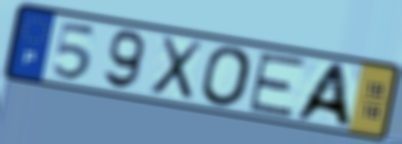5: (51, 20, 100, 81)
9: (101, 30, 148, 91)
A: (289, 61, 355, 130)
E: (245, 51, 309, 120)
O: (200, 44, 255, 109)
X: (147, 33, 207, 103)
